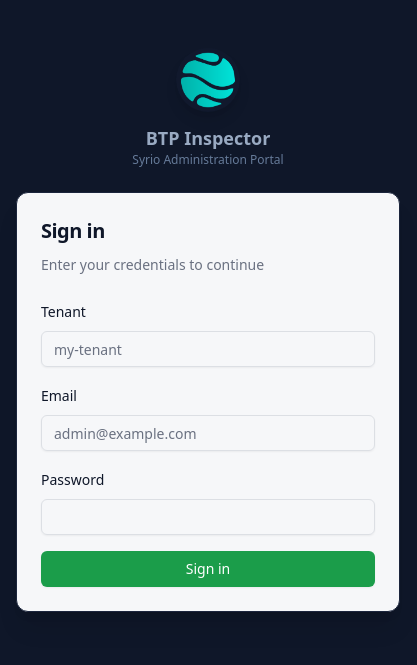
LoginView › shows an inline error on 401 response
Type "acme" into the field with id "tenantSlug".
click(208, 349); type("acme")  # box [41, 331, 375, 367]
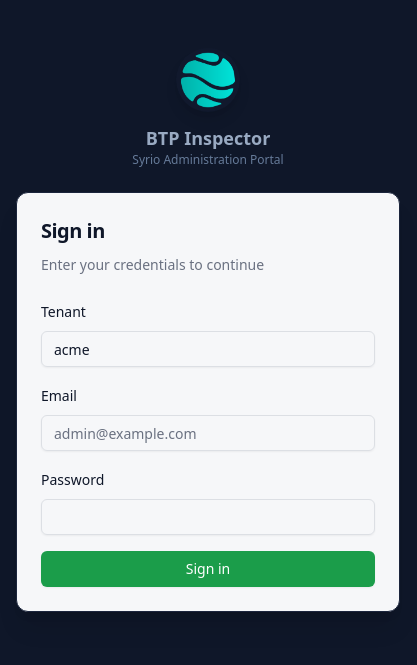
Type "admin@acme.com" into the field with id "email".
click(208, 433); type("admin@acme.com")  # box [41, 415, 375, 451]
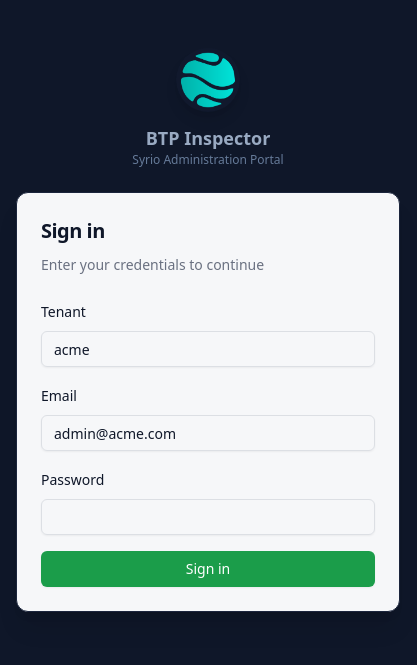
Type "wrong-password" into the password field labelled "Password".
click(208, 517); type("wrong-password")  # box [41, 499, 375, 535]
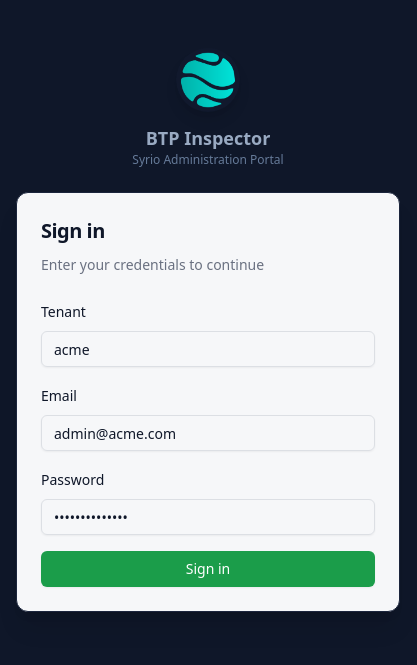
Submit the form, box [41, 299, 375, 587]
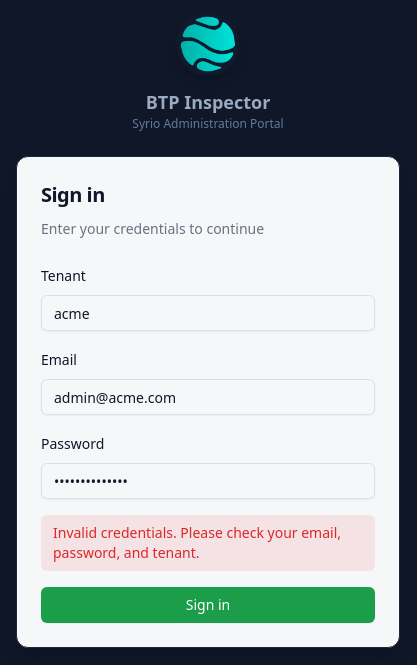
Expected: the text "Invalid credentials" is shown, [53, 523, 341, 562]
